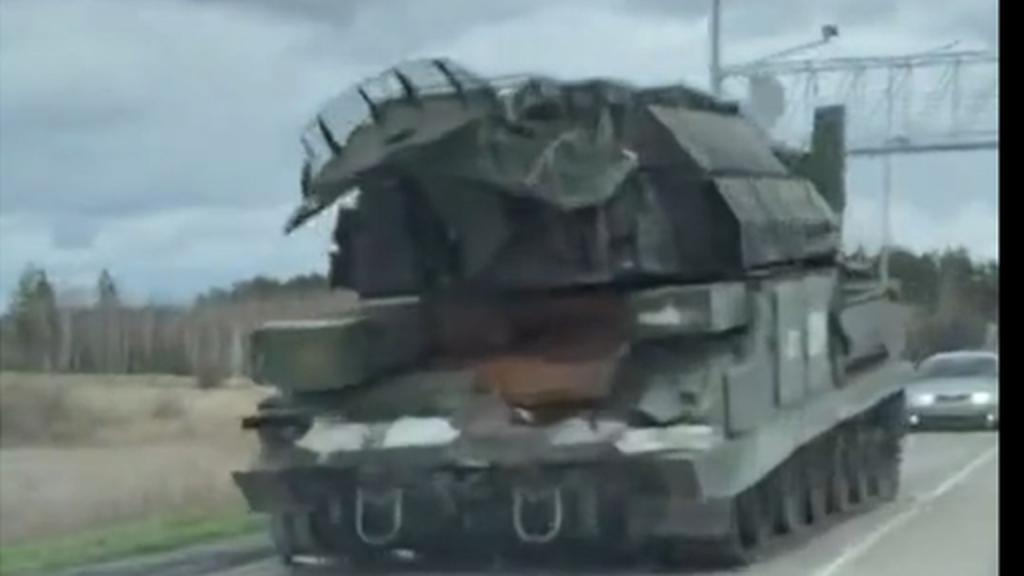CAR: (902, 338, 1000, 428)
MLRS: (220, 48, 902, 554)
